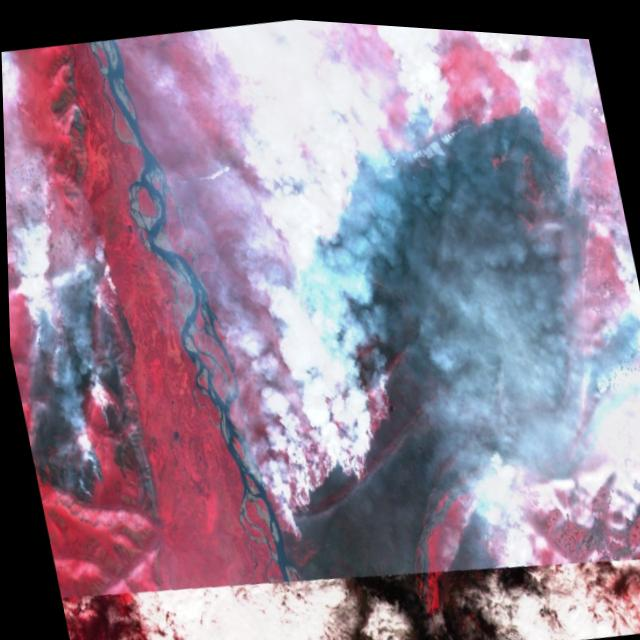fire: (0, 17, 640, 640)
